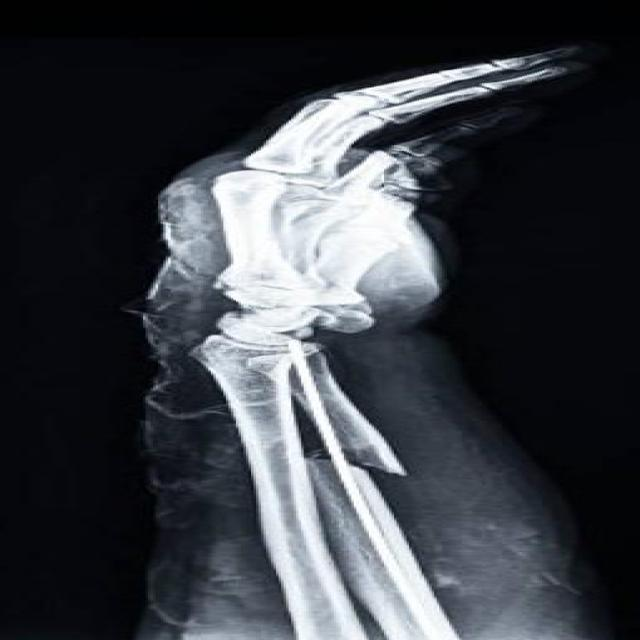bone: (164, 221, 194, 480)
